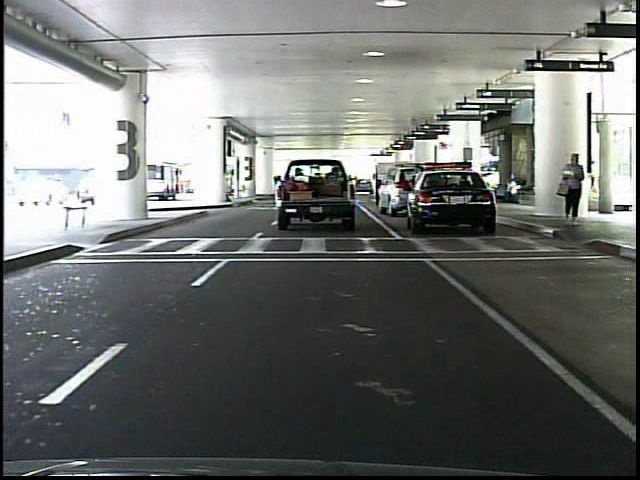person: (558, 147, 590, 231), (407, 160, 428, 216)
